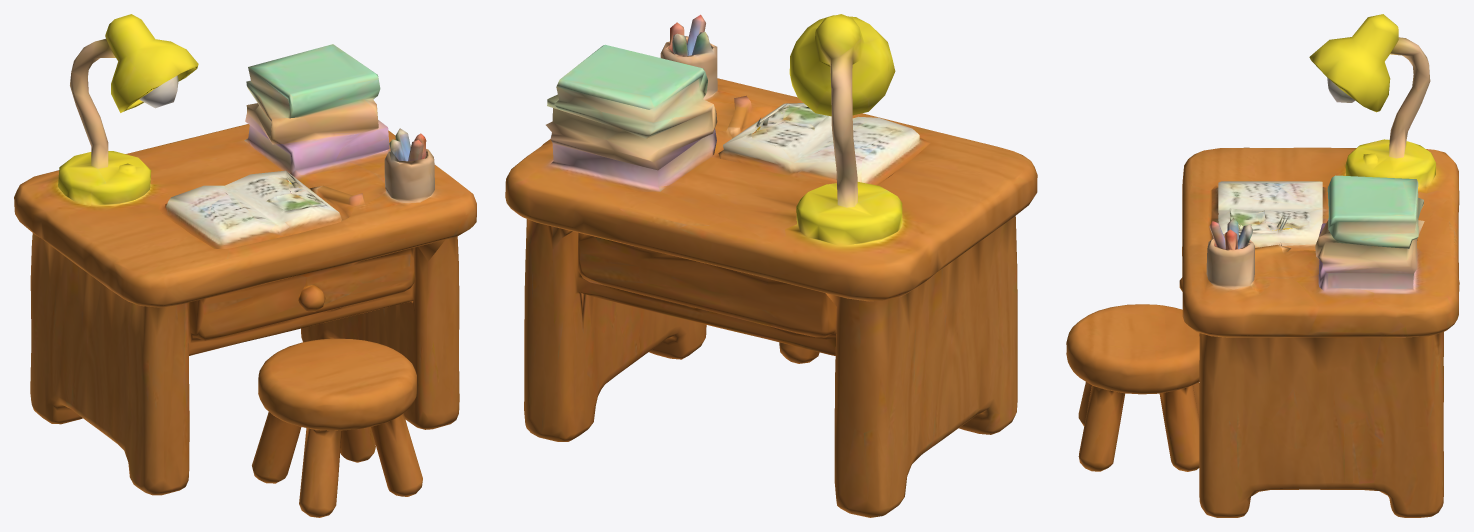
The model's file is prop_node_desk.glb.
3 views of the same model, side by side, from view 1: azimuth 30°, elevation 25°; view 2: azimuth 150°, elevation 25°; view 3: azimuth 270°, elevation 25° (orthographic). The views are drawn at different scales.
Parts seen in each view (by area): view 1: tripo_node_345c144f-4b9a-4948-9840-d05d0f102198; view 2: tripo_node_345c144f-4b9a-4948-9840-d05d0f102198; view 3: tripo_node_345c144f-4b9a-4948-9840-d05d0f102198.
Boxes of the visible parts, x1=… form: tripo_node_345c144f-4b9a-4948-9840-d05d0f102198: x1=14, y1=14, x2=476, y2=517; tripo_node_345c144f-4b9a-4948-9840-d05d0f102198: x1=505, y1=14, x2=1037, y2=517; tripo_node_345c144f-4b9a-4948-9840-d05d0f102198: x1=1066, y1=14, x2=1459, y2=517.
Size of the model in its own units: 0.9131 by 1 by 0.9174.
1 material, 1 textured.
